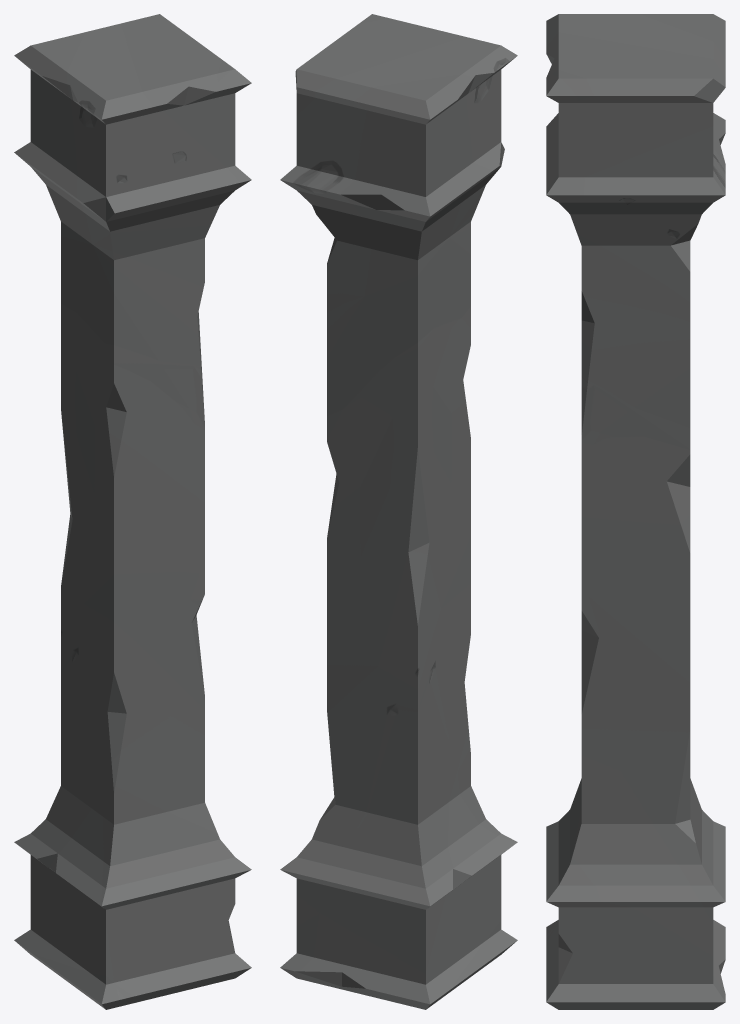
File: SM_Bld_L_Pillar_03.fbx
The picture shows the model from 3 angles, left to right: view 1: azimuth 30°, elevation 25°; view 2: azimuth 150°, elevation 25°; view 3: azimuth 270°, elevation 25°; orthographic projection. The views are drawn at different scales.
Parts seen in each view (by area): view 1: SM_Bld_L_Pillar_03; view 2: SM_Bld_L_Pillar_03; view 3: SM_Bld_L_Pillar_03.
Boxes of the visible parts, x1=… form: SM_Bld_L_Pillar_03: x1=14, y1=14, x2=251, y2=1009; SM_Bld_L_Pillar_03: x1=280, y1=14, x2=517, y2=1009; SM_Bld_L_Pillar_03: x1=546, y1=14, x2=725, y2=1009.
Size of the model in its own units: 51.89 by 300 by 52.44.
